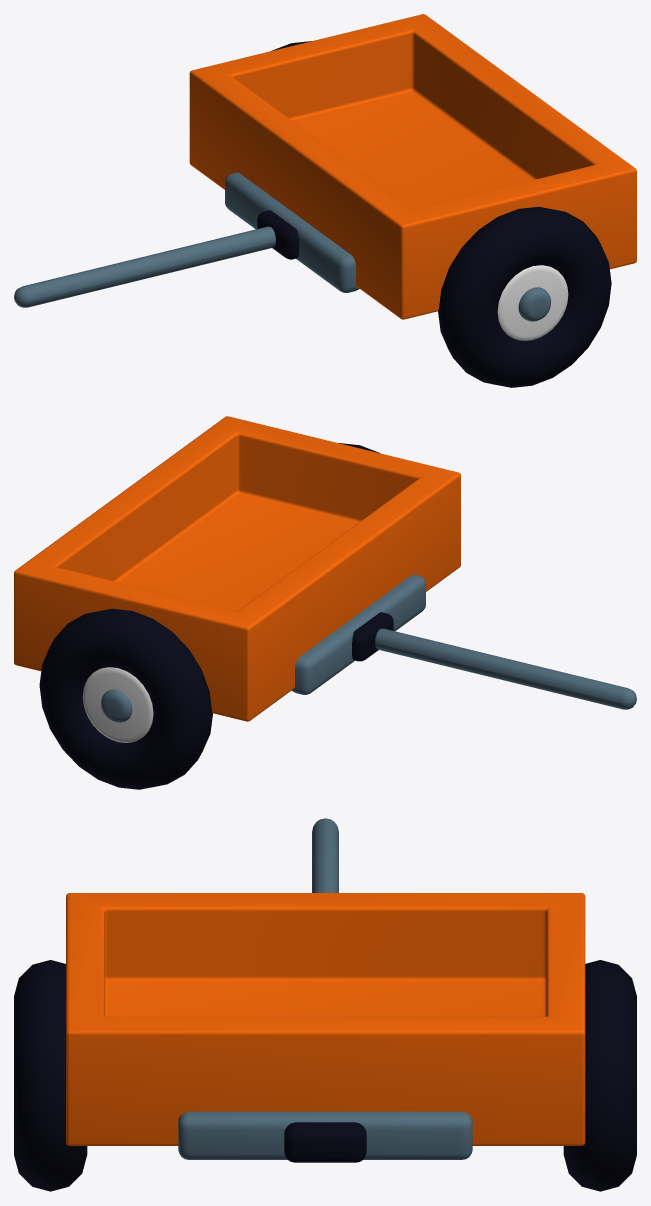
Rendered from Vagon1Axis.fbx.
3 renders of one model, top to bottom at view 1: azimuth 30°, elevation 25°; view 2: azimuth 150°, elevation 25°; view 3: azimuth 270°, elevation 25°, orthographic. The views are drawn at different scales.
Parts seen in each view (by area): view 1: Box001, Wheels, Cep, Cube.005, Wheels2, Cube.004, Axis; view 2: Box001, Wheels, Cep, Cube.005, Wheels2, Cube.004, Axis; view 3: Box001, Wheels, Cube.005, Cube.008, Cep.
Part boxes in pixels (x1,y1,x2,y2): Box001: (189, 14, 636, 319); Wheels: (271, 41, 611, 387); Cep: (14, 226, 275, 307); Cube.005: (225, 172, 359, 292); Wheels2: (497, 265, 568, 340); Cube.004: (257, 210, 298, 259); Axis: (518, 287, 551, 321); Box001: (14, 416, 460, 721); Wheels: (39, 443, 380, 789); Cep: (375, 628, 636, 709); Cube.005: (291, 574, 425, 694); Wheels2: (82, 667, 153, 742); Cube.004: (352, 612, 393, 661); Axis: (101, 689, 132, 722); Box001: (66, 893, 585, 1145); Wheels: (14, 960, 636, 1191); Cube.005: (178, 1111, 472, 1159); Cube.008: (284, 1122, 366, 1162); Cep: (312, 818, 338, 892).
Size of the model in its own units: 439 by 140 by 359.
